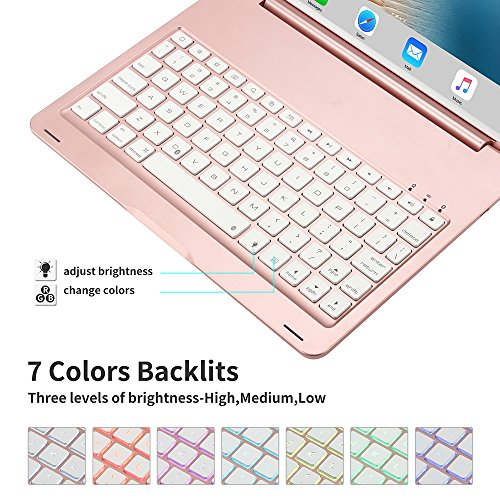Teclado: (27, 1, 500, 360)
